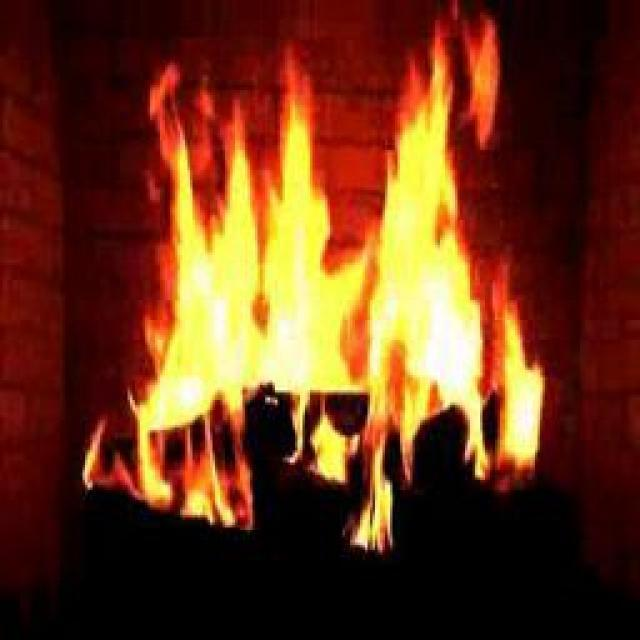Fire: (148, 94, 514, 499)
